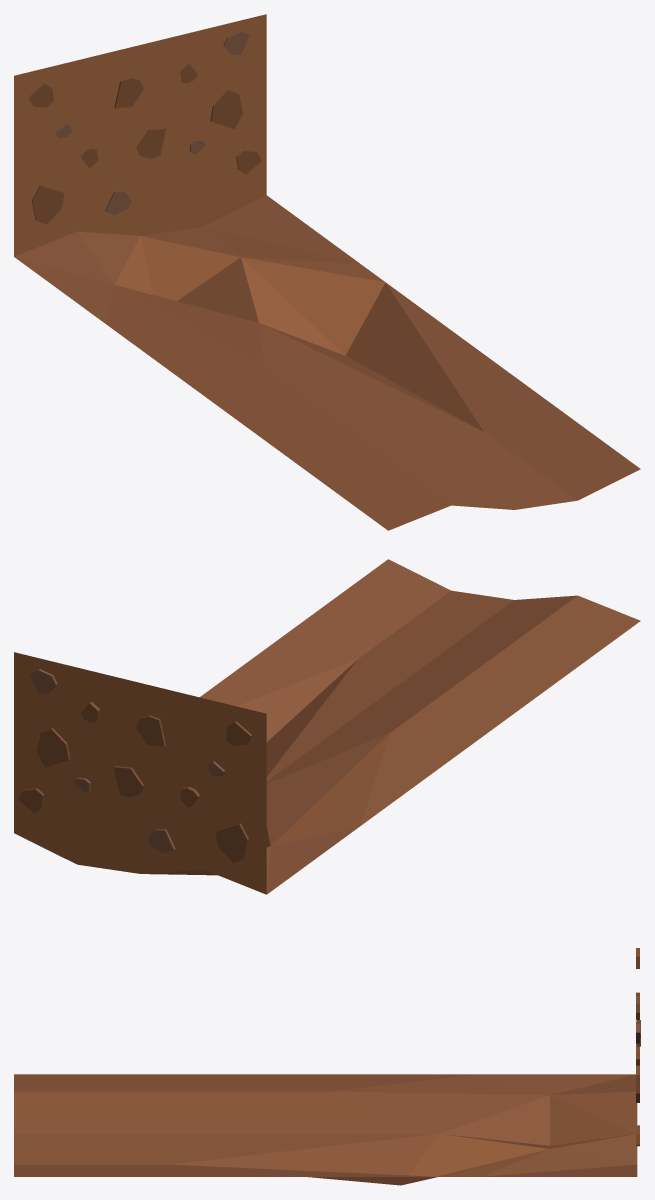
The model's file is ground_mid_03.fbx.
The picture shows the model from 3 angles, top to bottom: view 1: azimuth 30°, elevation 25°; view 2: azimuth 150°, elevation 25°; view 3: azimuth 270°, elevation 25°; orthographic projection. The views are drawn at different scales.
Parts seen in each view (by area): view 1: ground_mid_03; view 2: ground_mid_03; view 3: ground_mid_03.
Part boxes in pixels (box(x1,y1,x2,y2)): ground_mid_03: box(14, 14, 640, 530); ground_mid_03: box(14, 559, 640, 894); ground_mid_03: box(14, 948, 640, 1185).
Bounding box in the file's own units: 595 × 501 × 1537.
